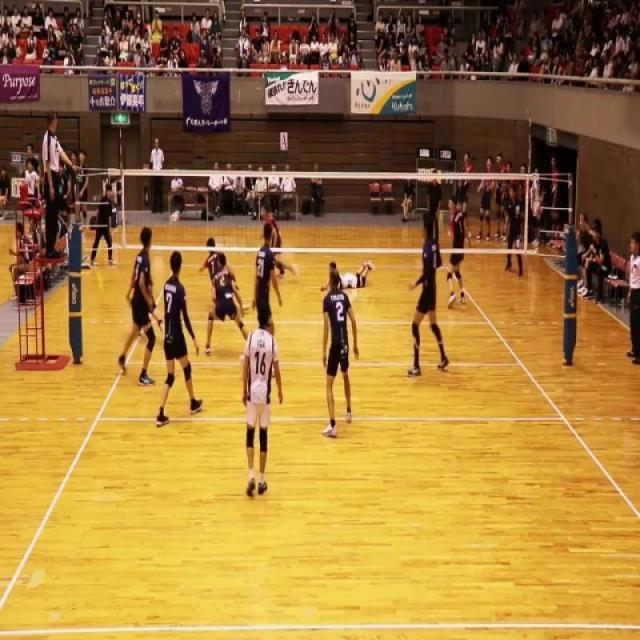volleyball: (170, 210, 180, 224)
